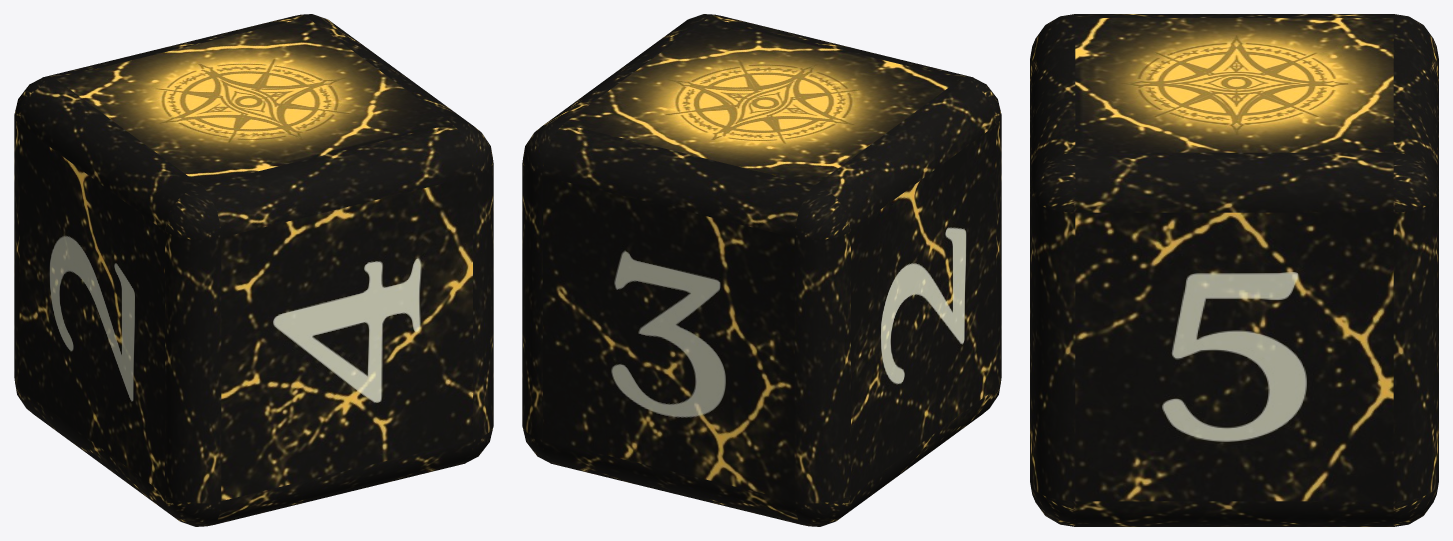
Rendered from d6_skill.glb.
3 renders of one model, left to right at view 1: azimuth 30°, elevation 25°; view 2: azimuth 150°, elevation 25°; view 3: azimuth 270°, elevation 25°, orthographic. The views are drawn at different scales.
Visible parts, largest first — view 1: d6; view 2: d6; view 3: d6.
Boxes of the visible parts, box(x1,y1,x2,y2) form: d6: box(14, 14, 493, 526); d6: box(522, 14, 1001, 526); d6: box(1030, 14, 1438, 526).
Size of the model in its own units: 104 by 104 by 104.
Materials: 1 (1 with a texture image).
